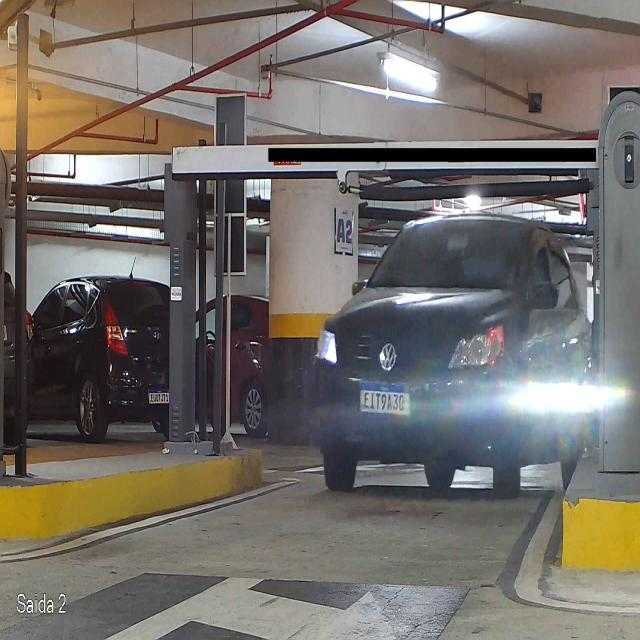mercosul_plate: (358, 379, 413, 418)
